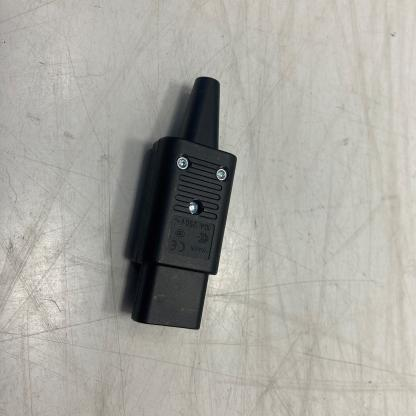SP0000006: (66, 46, 267, 360)
